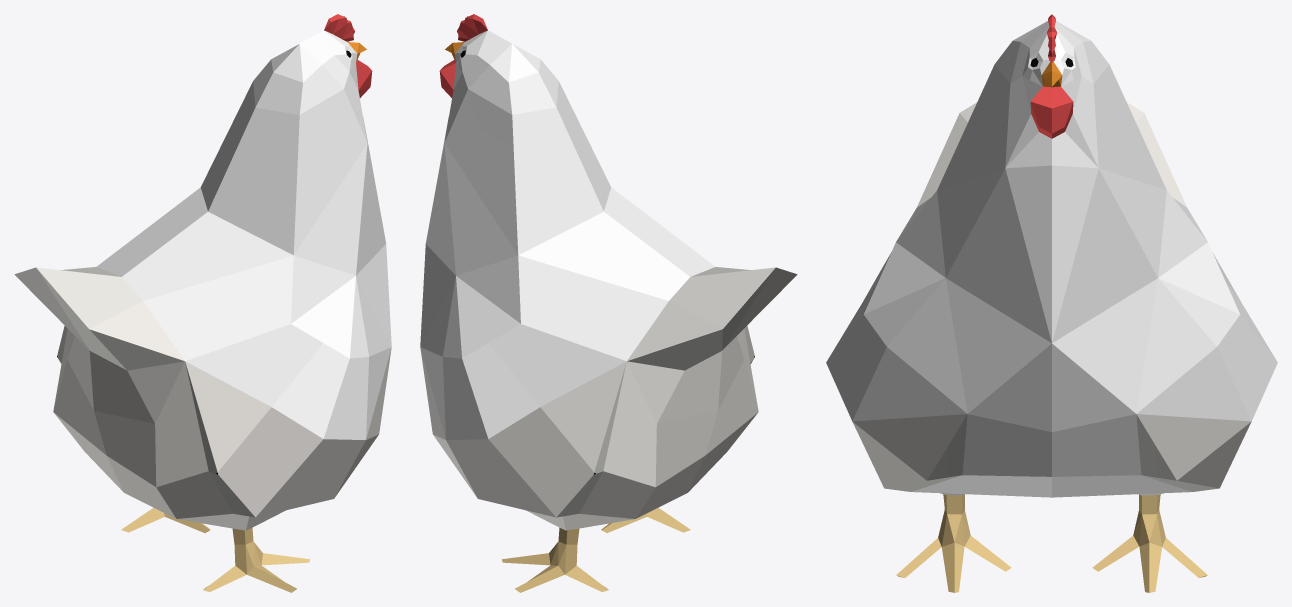
Rendered from chicken.glb.
The picture shows the model from 3 angles, left to right: view 1: azimuth 30°, elevation 25°; view 2: azimuth 150°, elevation 25°; view 3: azimuth 270°, elevation 25°; orthographic projection. The views are drawn at different scales.
Parts seen in each view (by area): view 1: Mesh_0, Mesh_4, Mesh_5, Mesh_6, Mesh_1; view 2: Mesh_0, Mesh_4, Mesh_5, Mesh_6, Mesh_1; view 3: Mesh_0, Mesh_4, Mesh_6, Mesh_5, Mesh_1.
Part boxes in pixels (left/top/right/bottom): Mesh_0: left=96, top=30, right=391, bottom=439; Mesh_4: left=36, top=267, right=391, bottom=530; Mesh_5: left=14, top=267, right=255, bottom=517; Mesh_6: left=121, top=507, right=309, bottom=592; Mesh_1: left=324, top=14, right=372, bottom=97; Mesh_0: left=420, top=30, right=715, bottom=439; Mesh_4: left=420, top=267, right=775, bottom=530; Mesh_5: left=556, top=267, right=797, bottom=517; Mesh_6: left=502, top=507, right=690, bottom=592; Mesh_1: left=439, top=14, right=487, bottom=97; Mesh_0: left=826, top=21, right=1277, bottom=497; Mesh_4: left=852, top=102, right=1251, bottom=495; Mesh_6: left=896, top=494, right=1207, bottom=592; Mesh_5: left=885, top=414, right=1218, bottom=491; Mesh_1: left=1030, top=14, right=1073, bottom=138.
Size of the model in its own units: 1.6 by 2.21 by 1.45.
